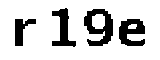1: (45, 4, 78, 48)
9: (81, 8, 114, 47)
e: (117, 16, 148, 49)
r: (12, 14, 40, 48)
